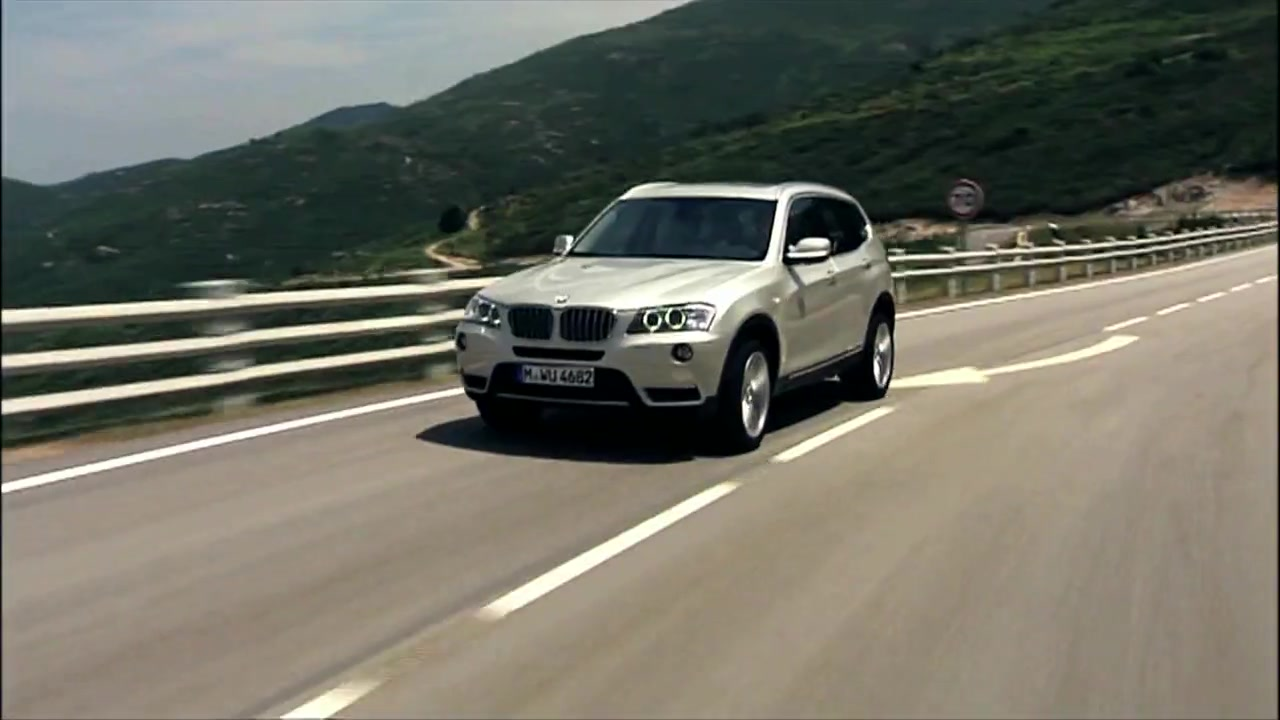car: (450, 179, 900, 457)
